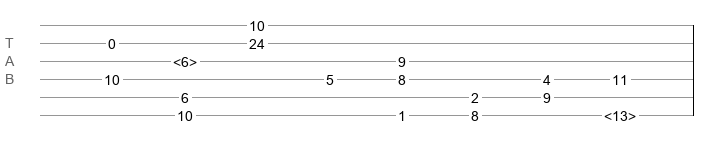0: (108, 36, 116, 46)
1: (398, 108, 406, 118)
10: (104, 72, 120, 82), (177, 108, 193, 118), (249, 18, 265, 28)
11: (612, 72, 628, 82)
2: (471, 90, 479, 100)
24: (249, 36, 265, 46)
4: (543, 72, 551, 82)
5: (326, 72, 334, 82)
6: (181, 90, 189, 100)
8: (398, 72, 406, 82), (471, 108, 479, 118)
9: (398, 54, 406, 64), (543, 90, 551, 100)
harmonic: (604, 108, 636, 118), (173, 54, 197, 64)
